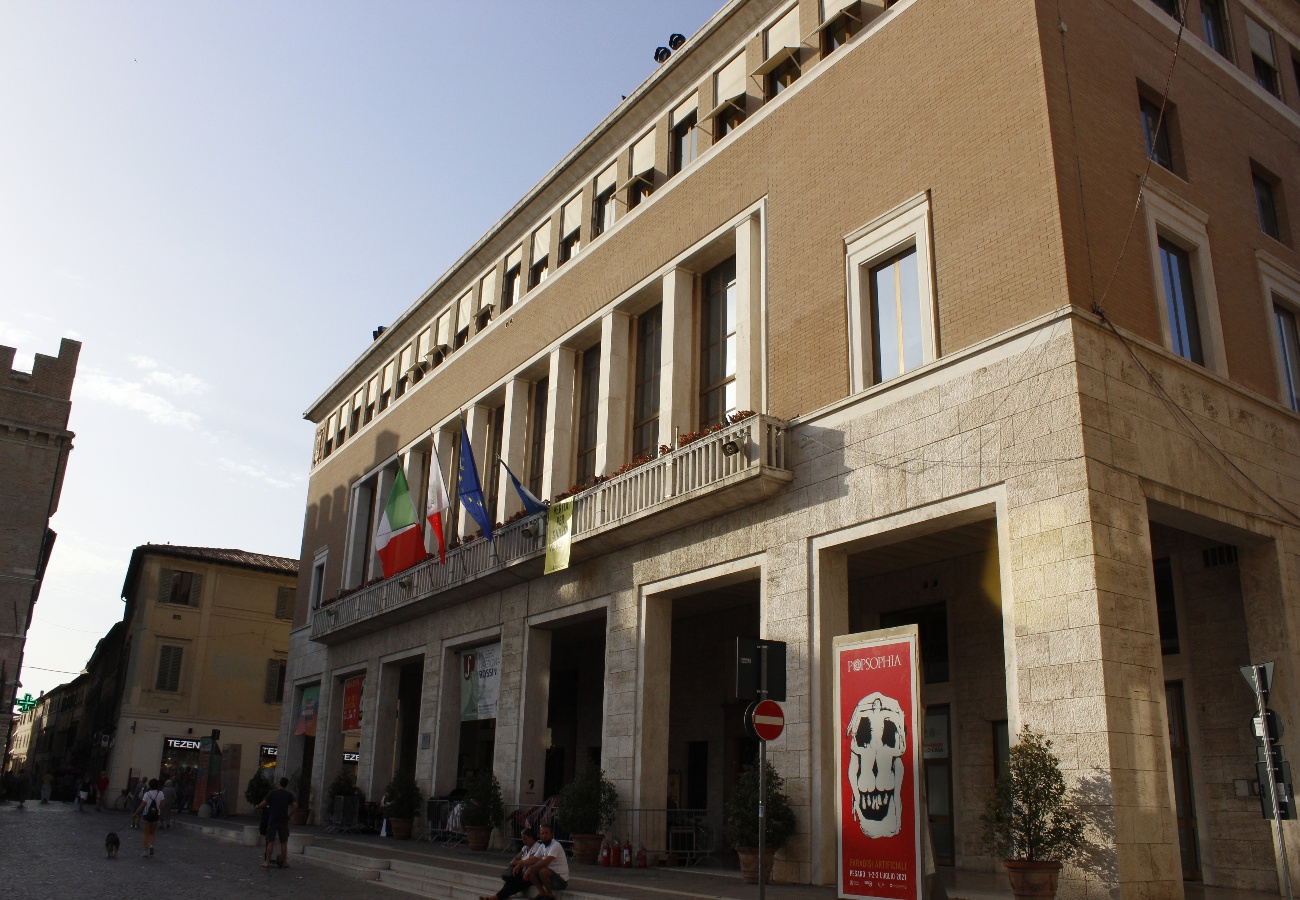Palazzo Comunale: (281, 1, 1104, 897)
